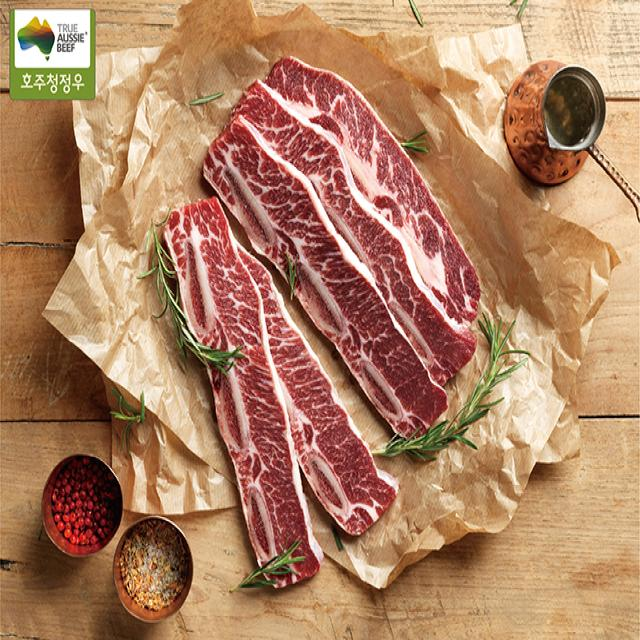beef: (252, 114, 430, 399), (200, 225, 349, 532)
